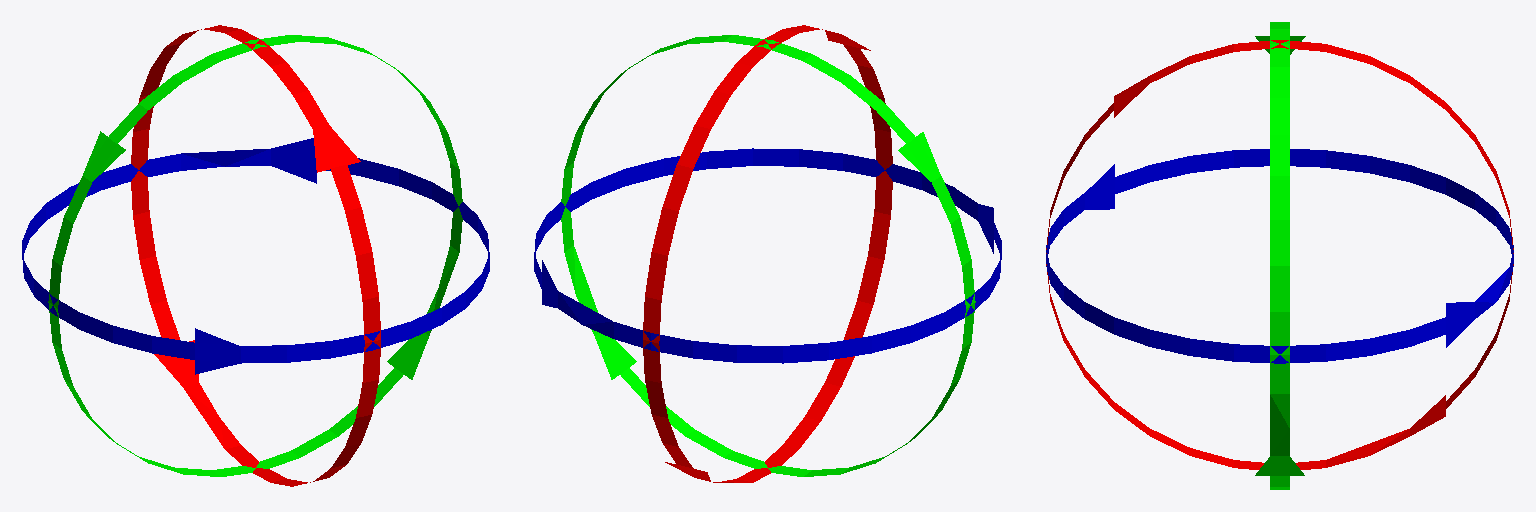
Rendered from rotate_frame.obj.
3 views of the same model, side by side, from view 1: azimuth 30°, elevation 25°; view 2: azimuth 150°, elevation 25°; view 3: azimuth 270°, elevation 25° (orthographic).
Visible parts, largest first — view 1: 柱体.001_柱体.004, 柱体.003_柱体.006, 柱体.002_柱体.005; view 2: 柱体.001_柱体.004, 柱体.003_柱体.006, 柱体.002_柱体.005; view 3: 柱体.001_柱体.004, 柱体.002_柱体.005, 柱体.003_柱体.006.
Part boxes in pixels (x1,y1,x2,y2): 柱体.001_柱体.004: (22, 138, 489, 374); 柱体.003_柱体.006: (131, 25, 380, 486); 柱体.002_柱体.005: (48, 35, 462, 476); 柱体.001_柱体.004: (534, 148, 1001, 363); 柱体.003_柱体.006: (643, 25, 892, 482); 柱体.002_柱体.005: (561, 35, 975, 476); 柱体.001_柱体.004: (1046, 149, 1513, 363); 柱体.002_柱体.005: (1255, 22, 1305, 489); 柱体.003_柱体.006: (1046, 40, 1513, 469).
Bounding box in the file's own units: 2 × 2 × 2.